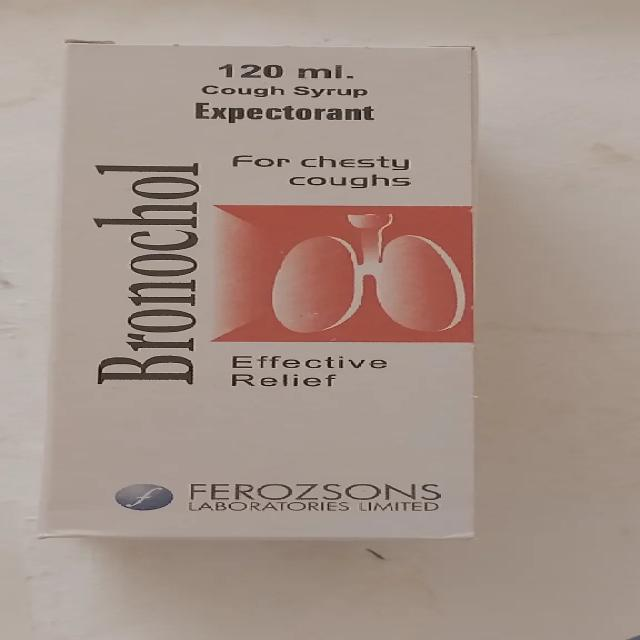drug-name: (59, 154, 219, 398)
